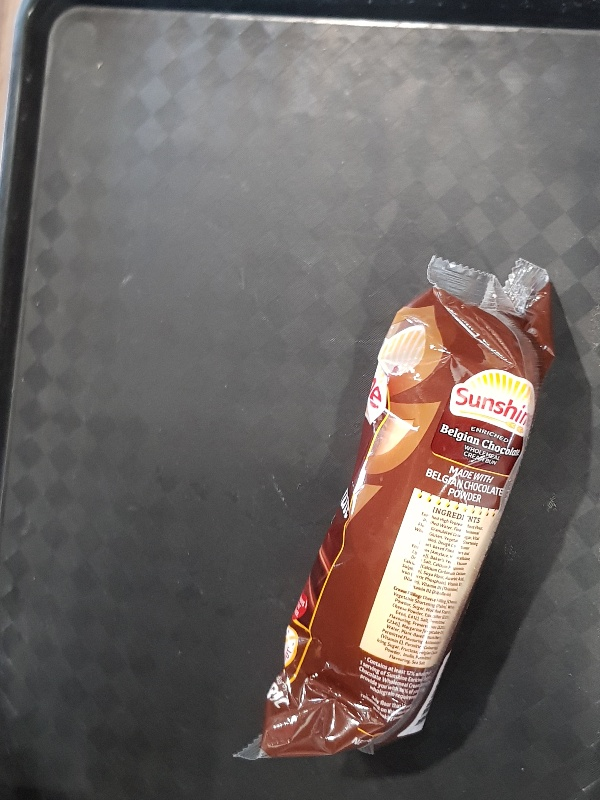Sunshine Belgium Chocolate Wholemeal Cream Bun: (231, 254, 556, 761)
